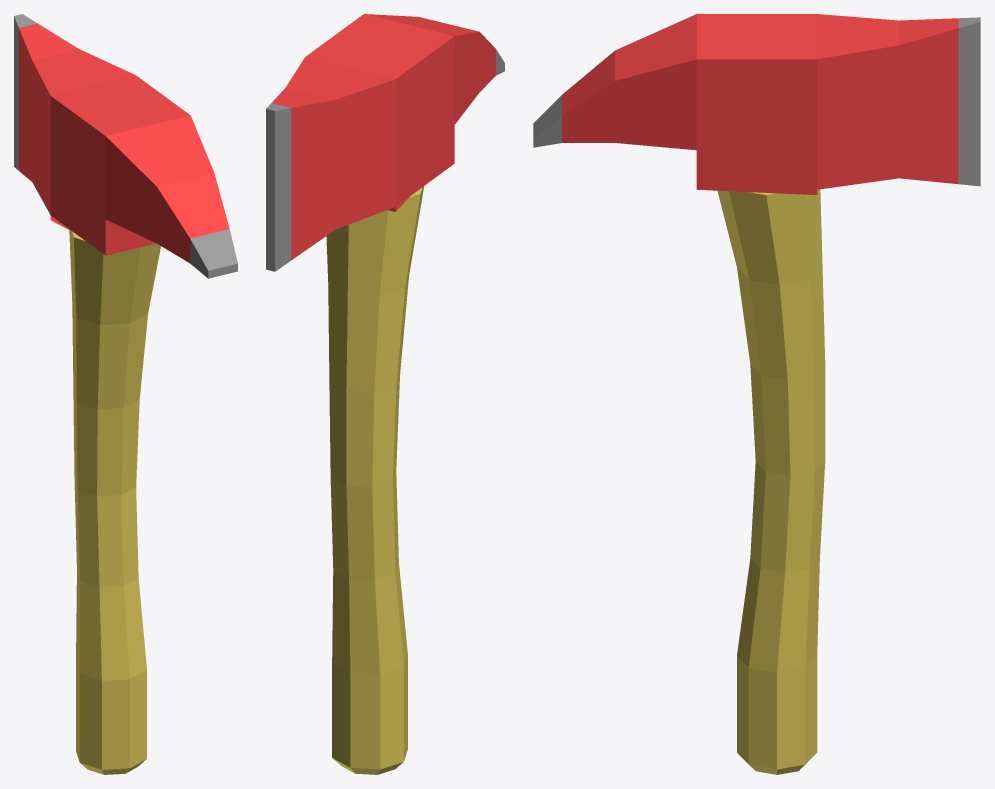
File: axe.gltf
The picture shows the model from 3 angles, left to right: view 1: azimuth 30°, elevation 25°; view 2: azimuth 150°, elevation 25°; view 3: azimuth 270°, elevation 25°; orthographic projection. The views are drawn at different scales.
Visible parts, largest first — view 1: cylinder; view 2: cylinder; view 3: cylinder.
Boxes of the visible parts, x1=… form: cylinder: x1=14, y1=14, x2=237, y2=774; cylinder: x1=266, y1=14, x2=504, y2=774; cylinder: x1=533, y1=14, x2=980, y2=774.
Size of the model in its own units: 0.0625 by 0.4781 by 0.2609.
Materials: 1 (1 with a texture image).
